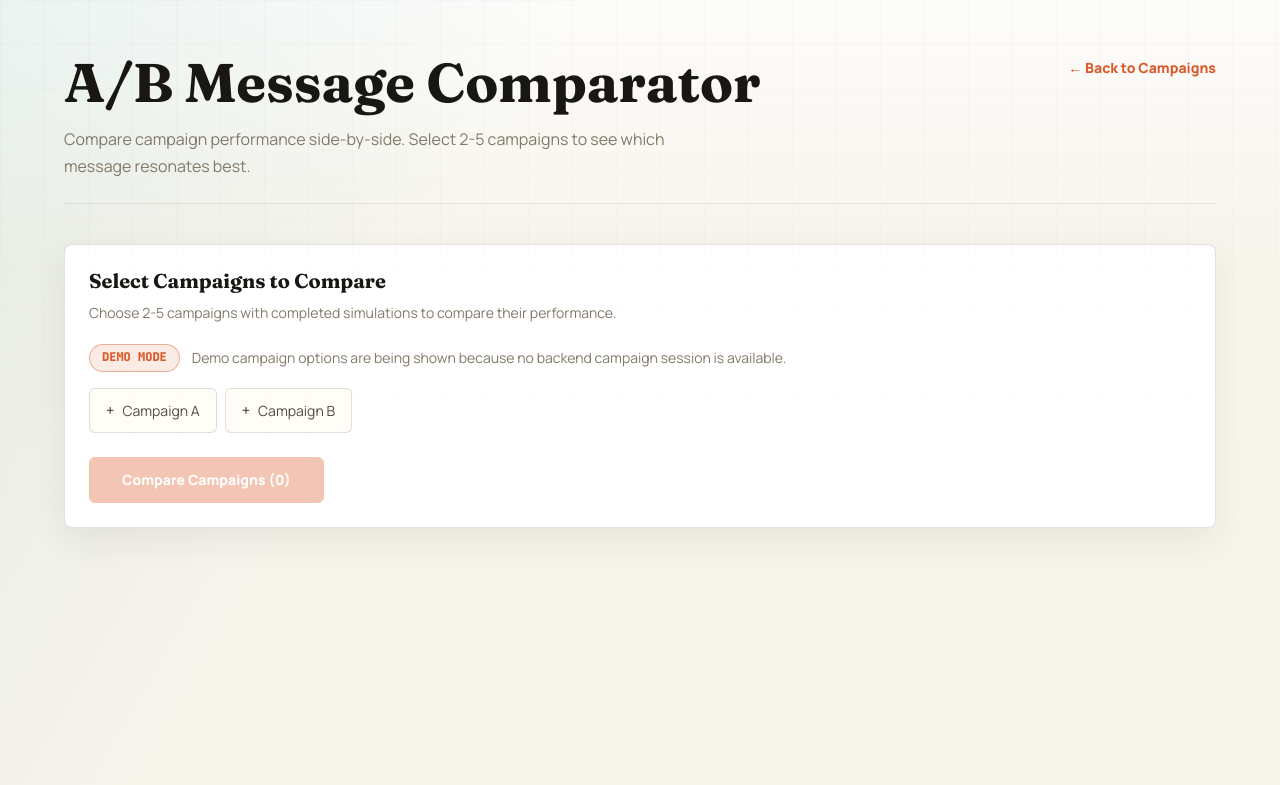
Test case: Comparator source labels › requires explicit Local Estimate after backend comparison failure
Click the element with class "campaign-chip" showing "+ Campaign A" at (153, 410), box 89,388 -> 217,433
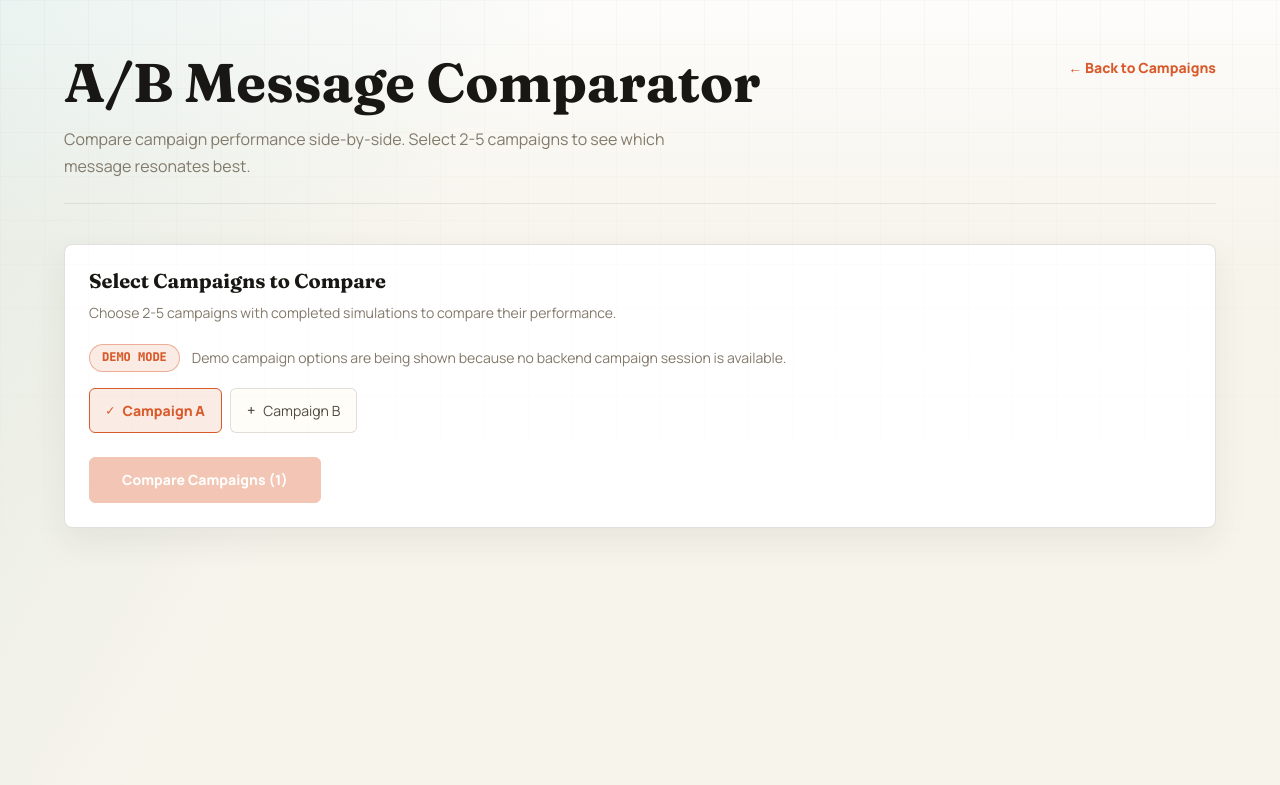
Click the element with class "campaign-chip" showing "+ Campaign B" at (294, 410), box 230,388 -> 357,433
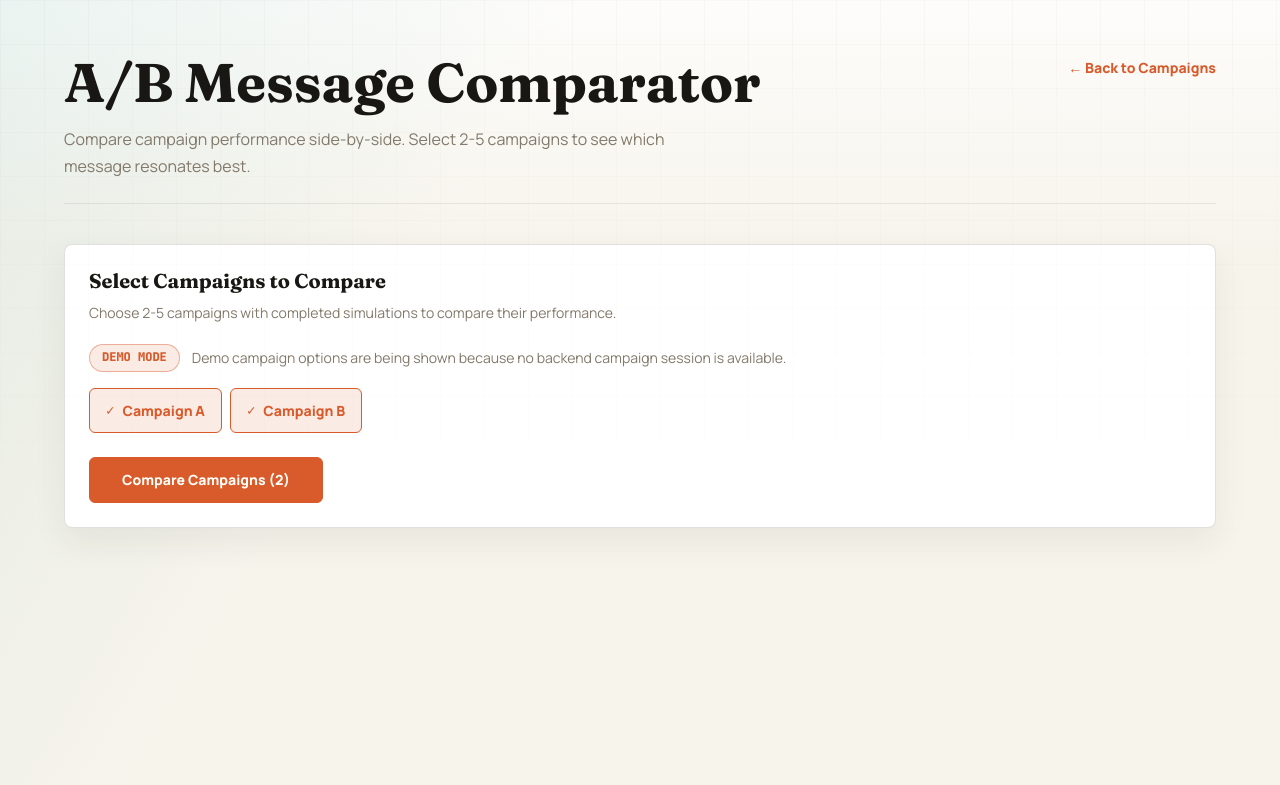
Click the button with class "btn-compare" at (206, 480), box 89,457 -> 323,503
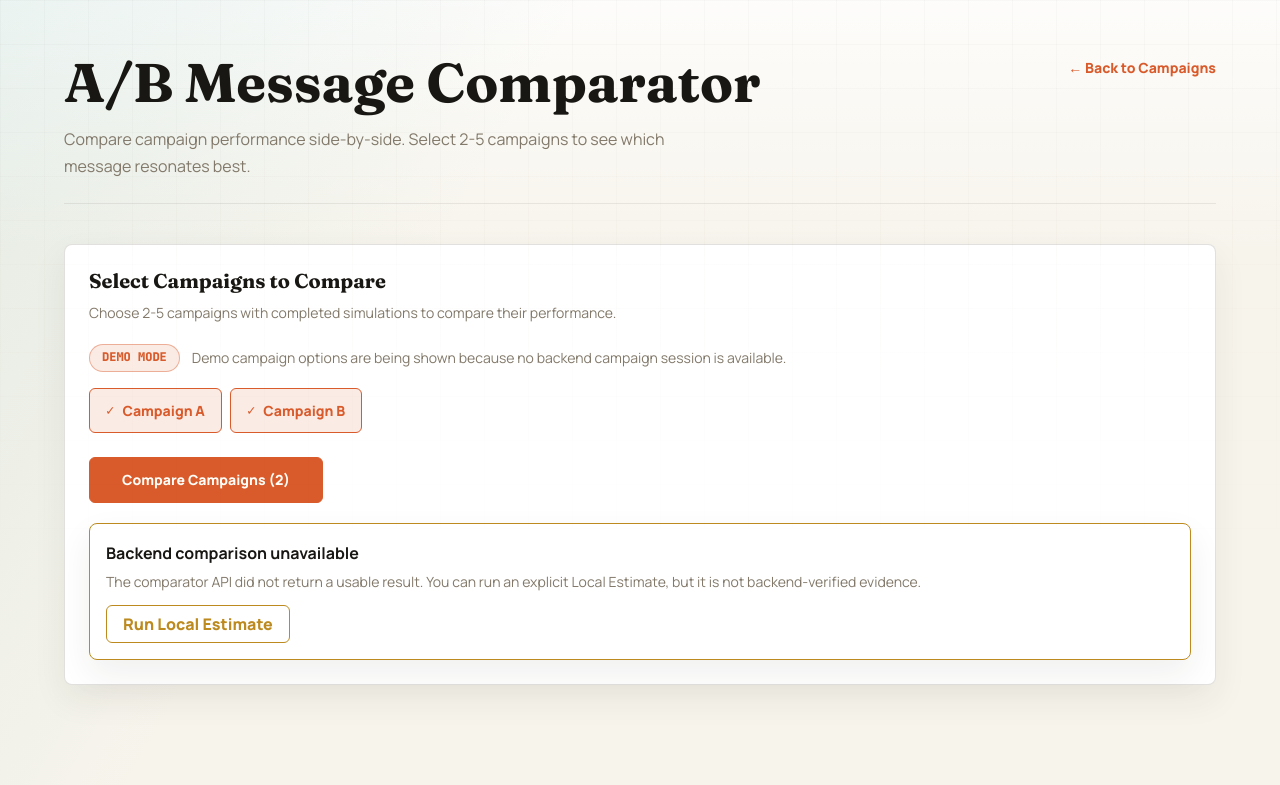
Expected: the text "Backend comparison unavailable" is shown, 106,542 -> 359,564
Click the button with class "btn-fallback" at (198, 624), box 106,606 -> 290,644
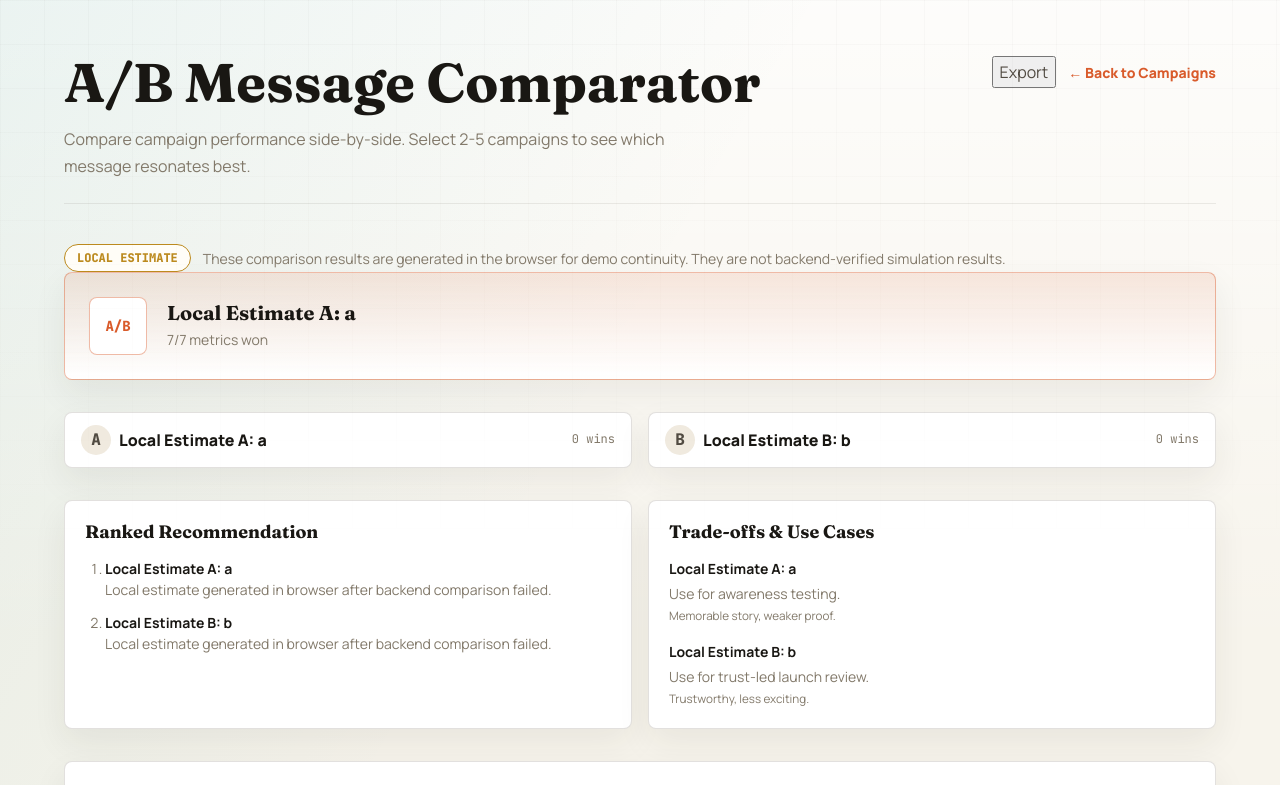
Expected: the text "Local Estimate" is shown, 64,244 -> 191,272
Expected: the text "not backend-verified simulation results" is shown, 203,249 -> 1006,268
